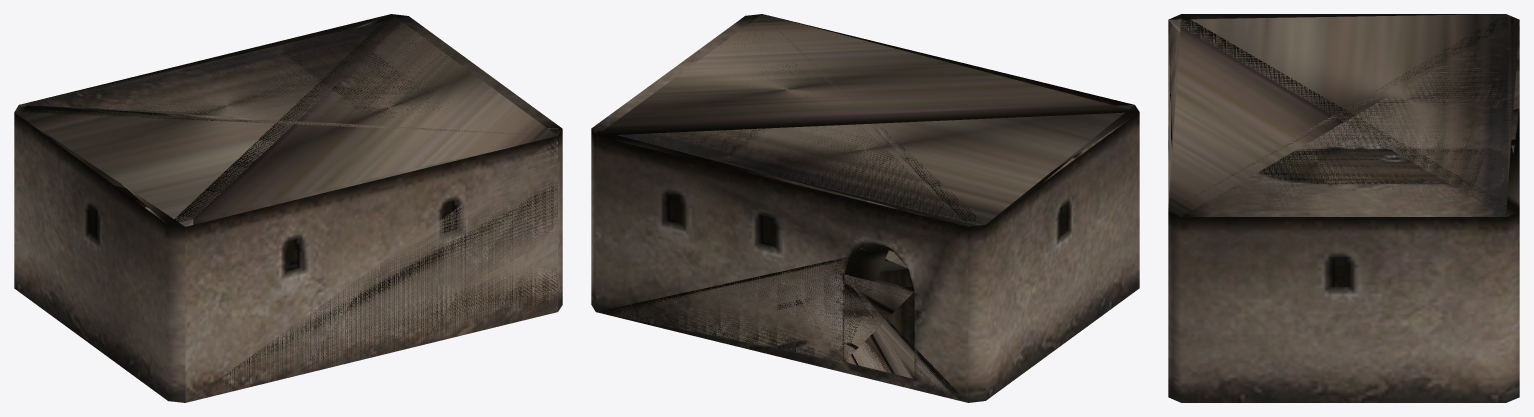
Rendered from stbuho49.dae.
3 renders of one model, left to right at view 1: azimuth 30°, elevation 25°; view 2: azimuth 150°, elevation 25°; view 3: azimuth 270°, elevation 25°, orthographic. The views are drawn at different scales.
Visible parts, largest first — view 1: house, bank, crown; view 2: house, bank, crown; view 3: bank, house, crown.
Part boxes in pixels (box(x1,y1,x2,y2)): house: box(14, 14, 562, 402); bank: box(15, 14, 561, 402); crown: box(14, 14, 562, 226); house: box(591, 14, 1139, 402); bank: box(591, 14, 1138, 226); crown: box(592, 16, 1139, 400); bank: box(1168, 14, 1519, 216); house: box(1168, 14, 1519, 402); crown: box(1168, 14, 1519, 216).
Size of the model in its own units: 5.28 by 3.86 by 2.25.
1 material, 1 textured.
